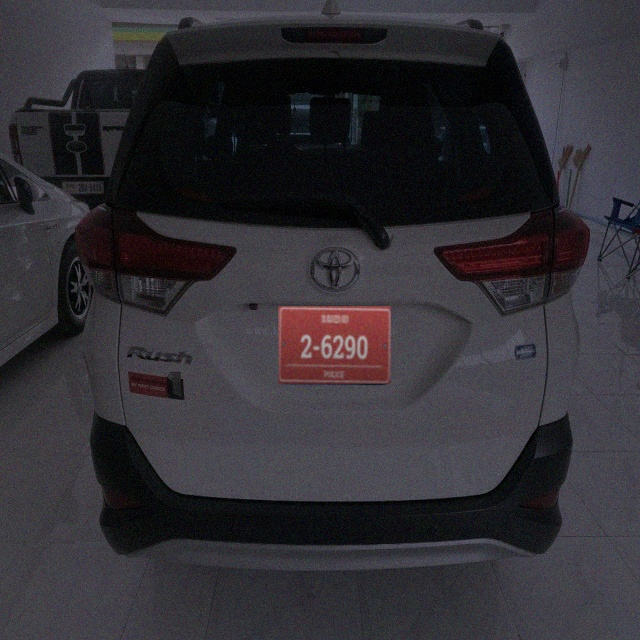Plate Number: (278, 306, 391, 384)
